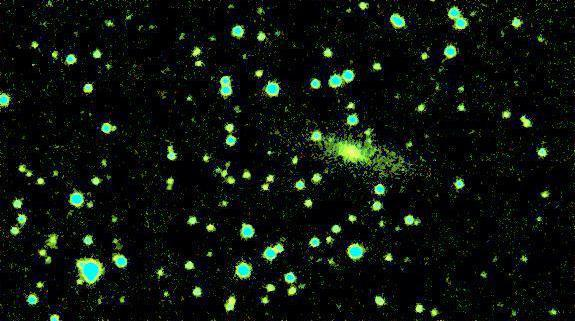star: (318, 126, 348, 156)
